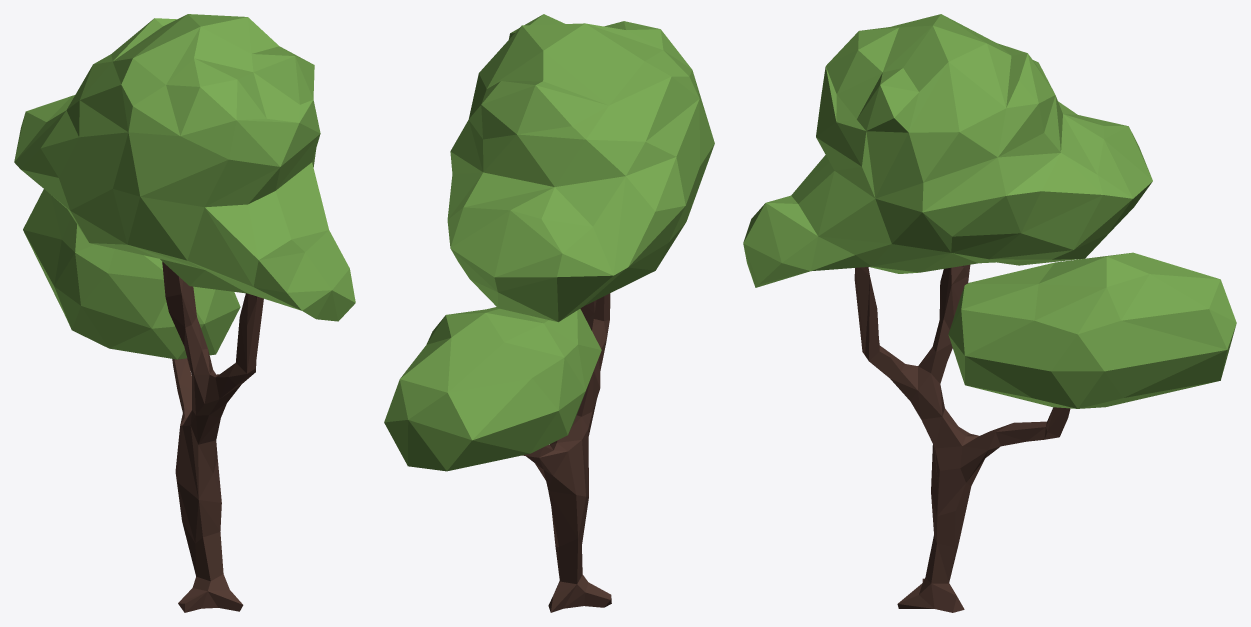
The model's file is New_Tree_12.fbx.
3 renders of one model, left to right at view 1: azimuth 30°, elevation 25°; view 2: azimuth 150°, elevation 25°; view 3: azimuth 270°, elevation 25°, orthographic.
Parts seen in each view (by area): view 1: Icosphere.097, Icosphere.098, Cube.018; view 2: Icosphere.097, Icosphere.098, Cube.018; view 3: Icosphere.097, Icosphere.098, Cube.018.
Part boxes in pixels (x1=…): Icosphere.097: x1=14, y1=14, x2=355, y2=321; Icosphere.098: x1=23, y1=189, x2=240, y2=359; Cube.018: x1=162, y1=262, x2=263, y2=612; Icosphere.097: x1=447, y1=14, x2=714, y2=322; Icosphere.098: x1=384, y1=307, x2=601, y2=471; Cube.018: x1=522, y1=293, x2=611, y2=612; Icosphere.097: x1=743, y1=14, x2=1152, y2=287; Icosphere.098: x1=948, y1=252, x2=1236, y2=408; Cube.018: x1=854, y1=264, x2=1070, y2=612.
Bounding box in the file's own units: 220 × 525 × 408.
